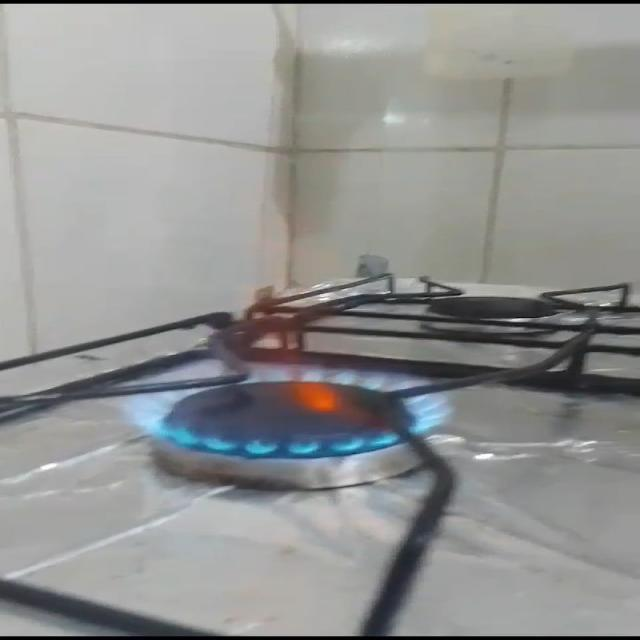fogo-ypXI: (119, 219, 461, 462)
